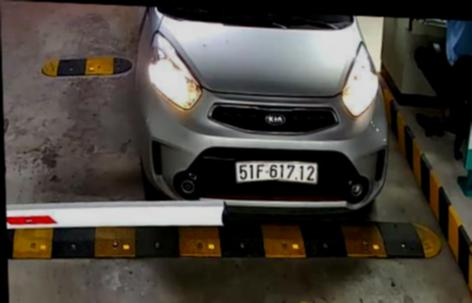License_Plate: (233, 154, 320, 189)
